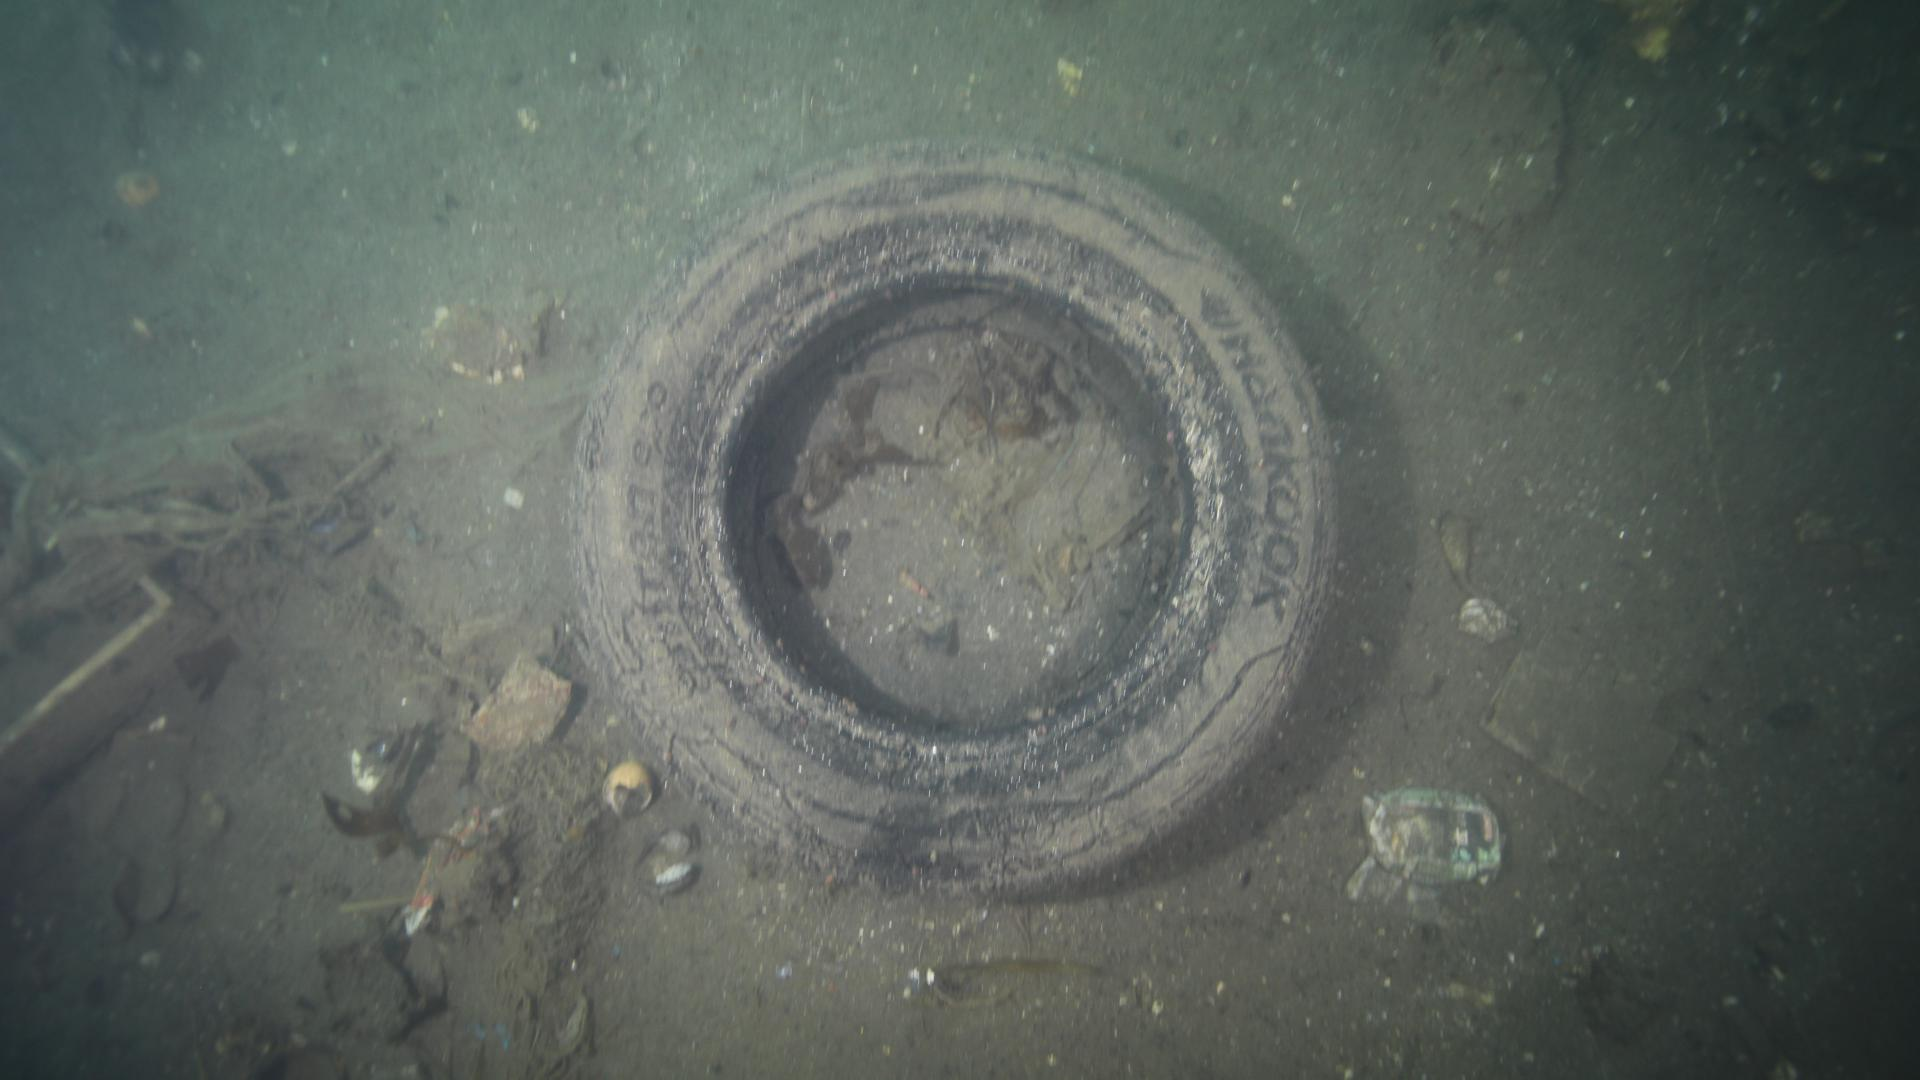tire: (558, 136, 1340, 899)
